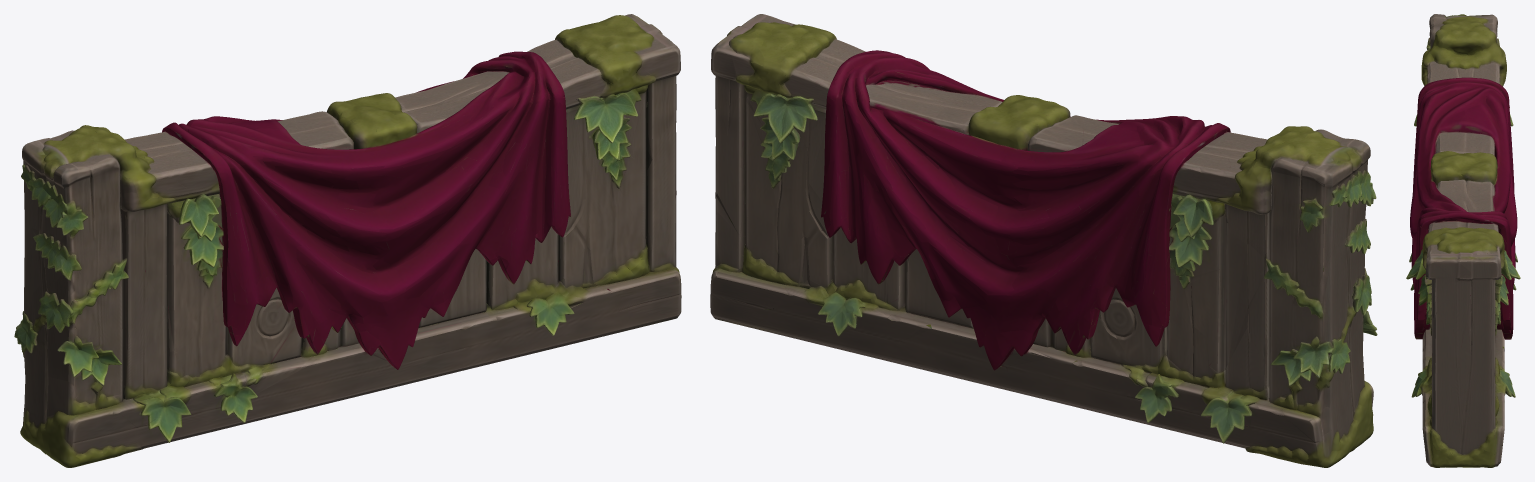
File: wall-04.obj
3 views of the same model, side by side, from view 1: azimuth 30°, elevation 25°; view 2: azimuth 150°, elevation 25°; view 3: azimuth 270°, elevation 25° (orthographic). The views are drawn at different scales.
Parts seen in each view (by area): view 1: Meshy_AI_Ivy_Draped_Wooden_Bar_0919054328_texture; view 2: Meshy_AI_Ivy_Draped_Wooden_Bar_0919054328_texture; view 3: Meshy_AI_Ivy_Draped_Wooden_Bar_0919054328_texture.
Part boxes in pixels (left/top/right/bottom): Meshy_AI_Ivy_Draped_Wooden_Bar_0919054328_texture: left=14, top=14, right=681, bottom=467; Meshy_AI_Ivy_Draped_Wooden_Bar_0919054328_texture: left=710, top=14, right=1377, bottom=467; Meshy_AI_Ivy_Draped_Wooden_Bar_0919054328_texture: left=1406, top=14, right=1520, bottom=467.
Bounding box in the file's own units: 1.9 × 0.8757 × 0.3934.
Materials: 1 (1 with a texture image).
